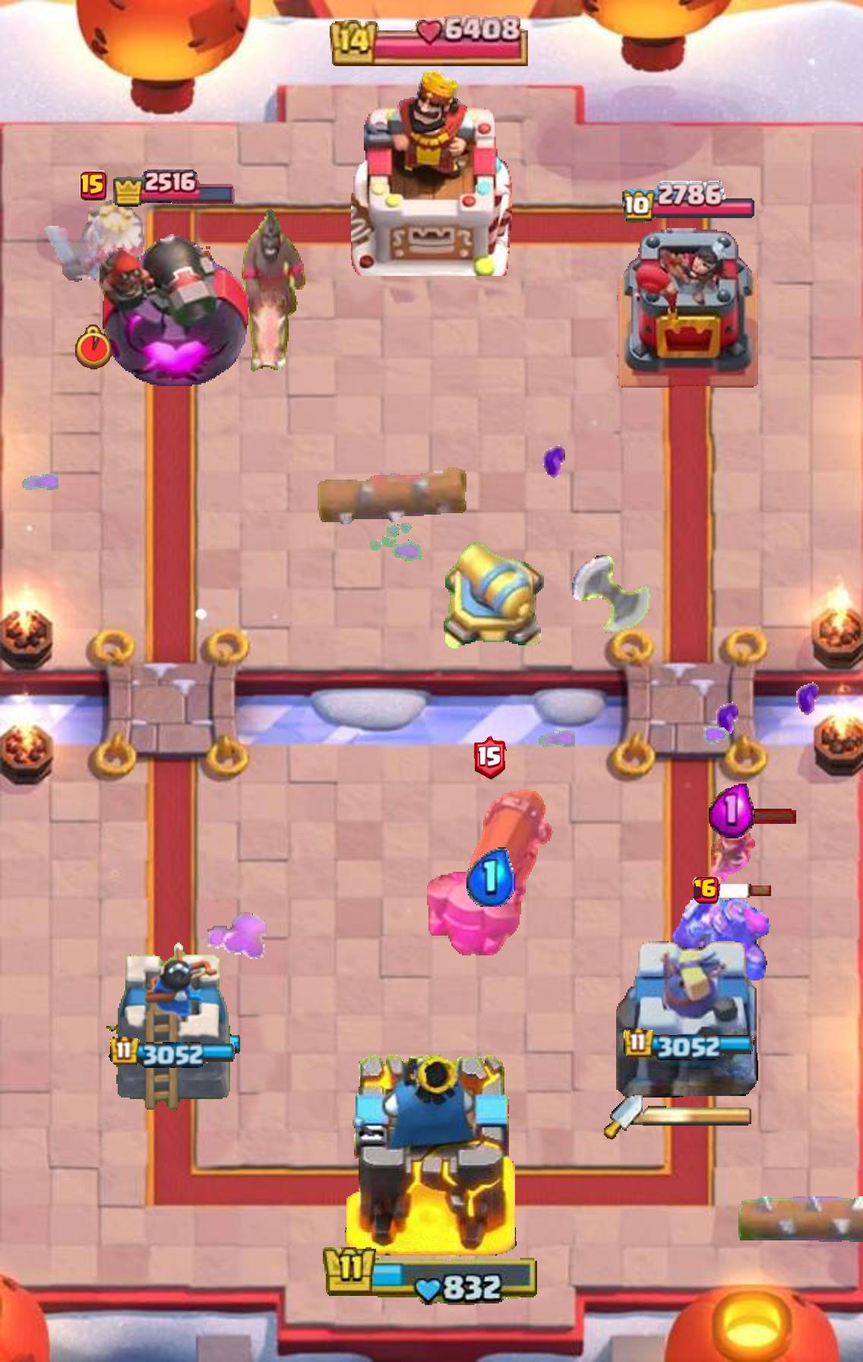bar: (721, 808, 797, 825), (717, 883, 772, 898)
bar-level: (474, 736, 507, 781), (80, 170, 108, 201), (692, 877, 721, 905)
